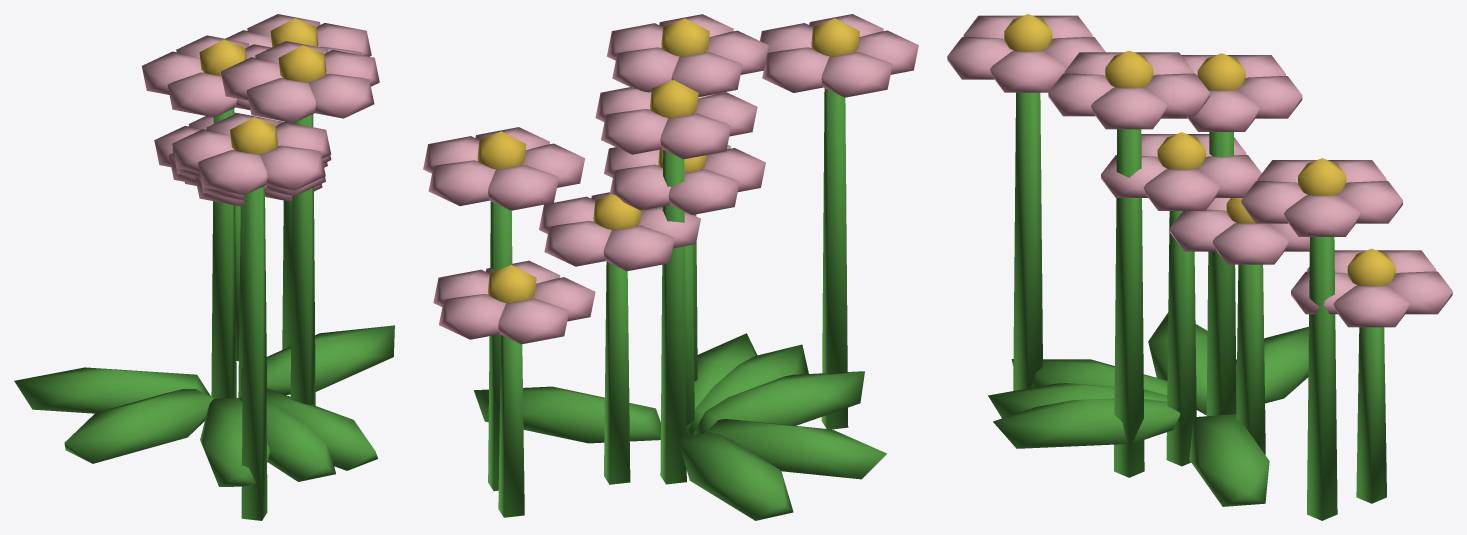
File: flowers_pink.glb
3 renders of one model, left to right at view 1: azimuth 30°, elevation 25°; view 2: azimuth 150°, elevation 25°; view 3: azimuth 270°, elevation 25°, orthographic. The views are drawn at different scales.
Visible parts, largest first — view 1: Flowers; view 2: Flowers; view 3: Flowers.
Boxes of the visible parts, x1,y1,x2,y2 form: Flowers: (14,14,394,520); Flowers: (423,14,918,520); Flowers: (947,14,1452,520).
Size of the model in its own units: 0.3778 by 0.3937 by 0.4281.
